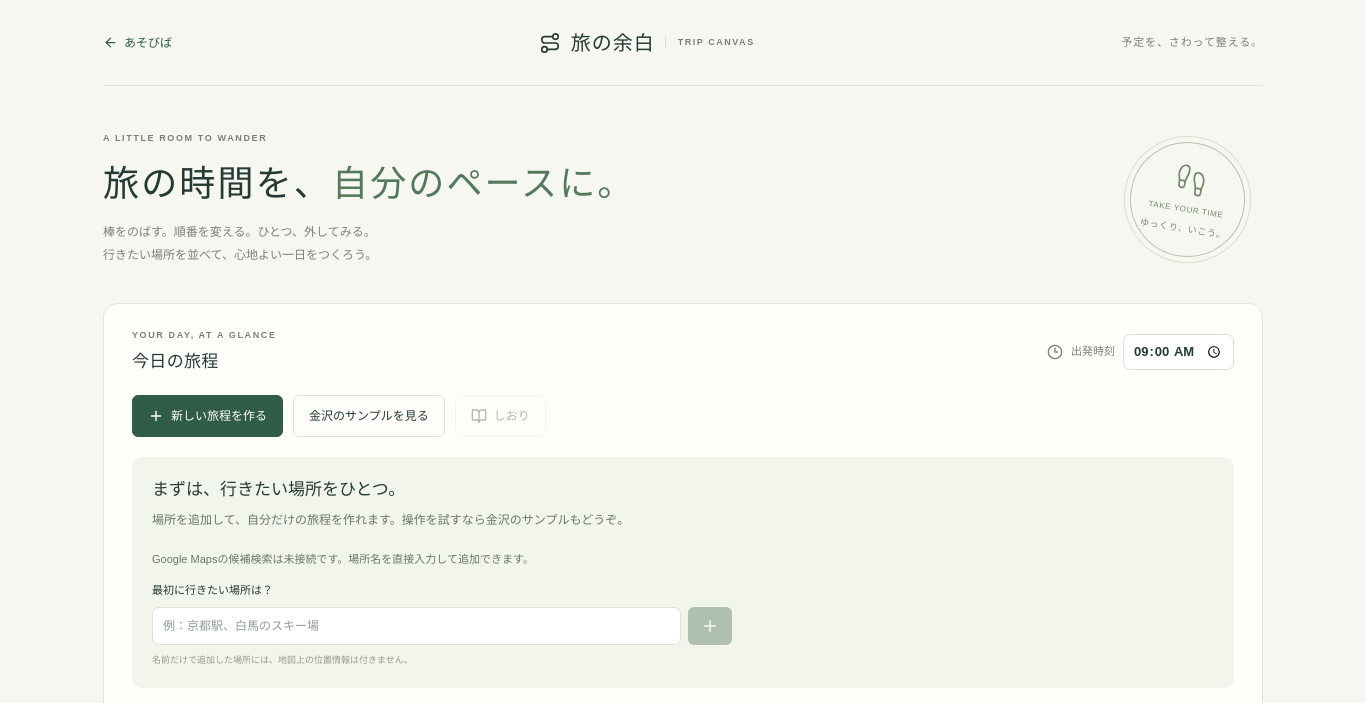
Test: TripPlanner › 全区間に手入力すれば、地図未接続でも移動込みの終了予定を表示できる
This screenshot has width=1366, height=703.
Click the button "金沢のサンプルを見る" at (369, 416), box [293,395,445,437]
(page scrolled)
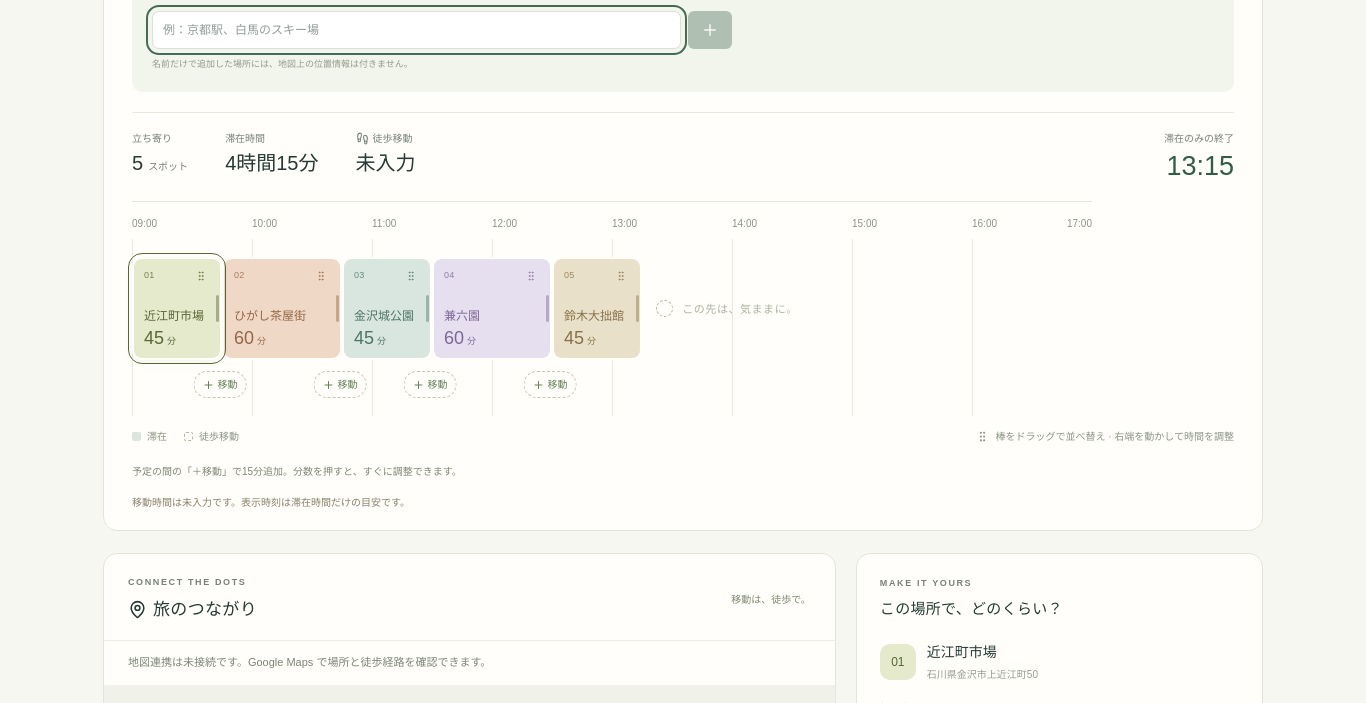
Click the button with aria-label "への移動時間を追加" at (220, 385), box [194,371,246,398]
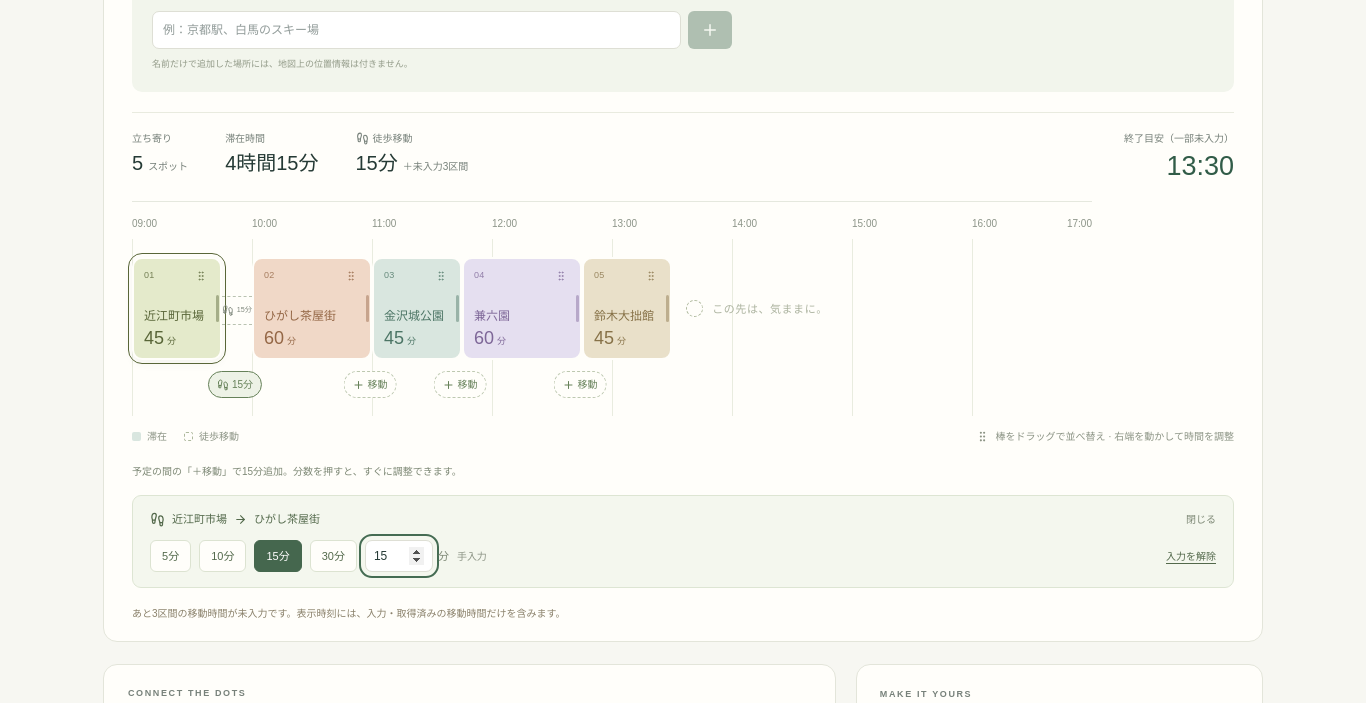
Click the button with aria-label "への移動時間を追加" at (370, 385), box [344,371,396,398]
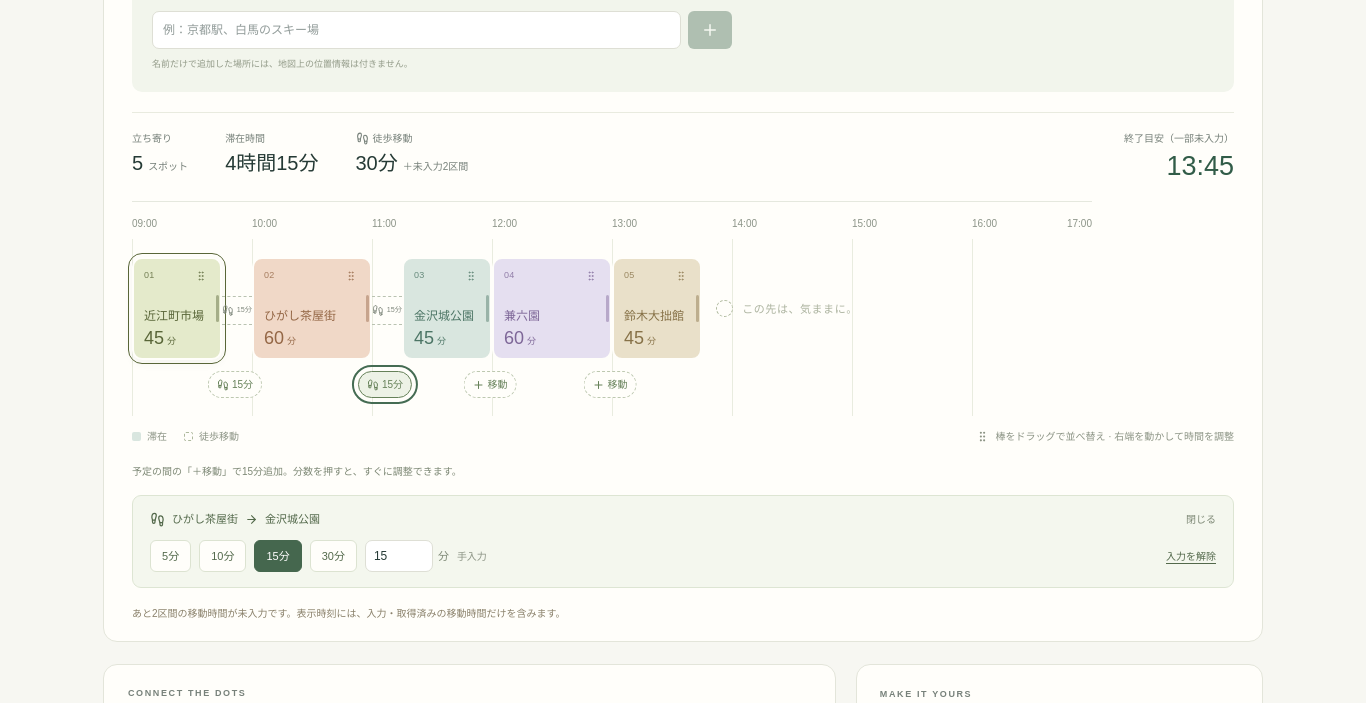
Click the button with aria-label "への移動時間を追加" at (490, 385), box [464,371,516,398]
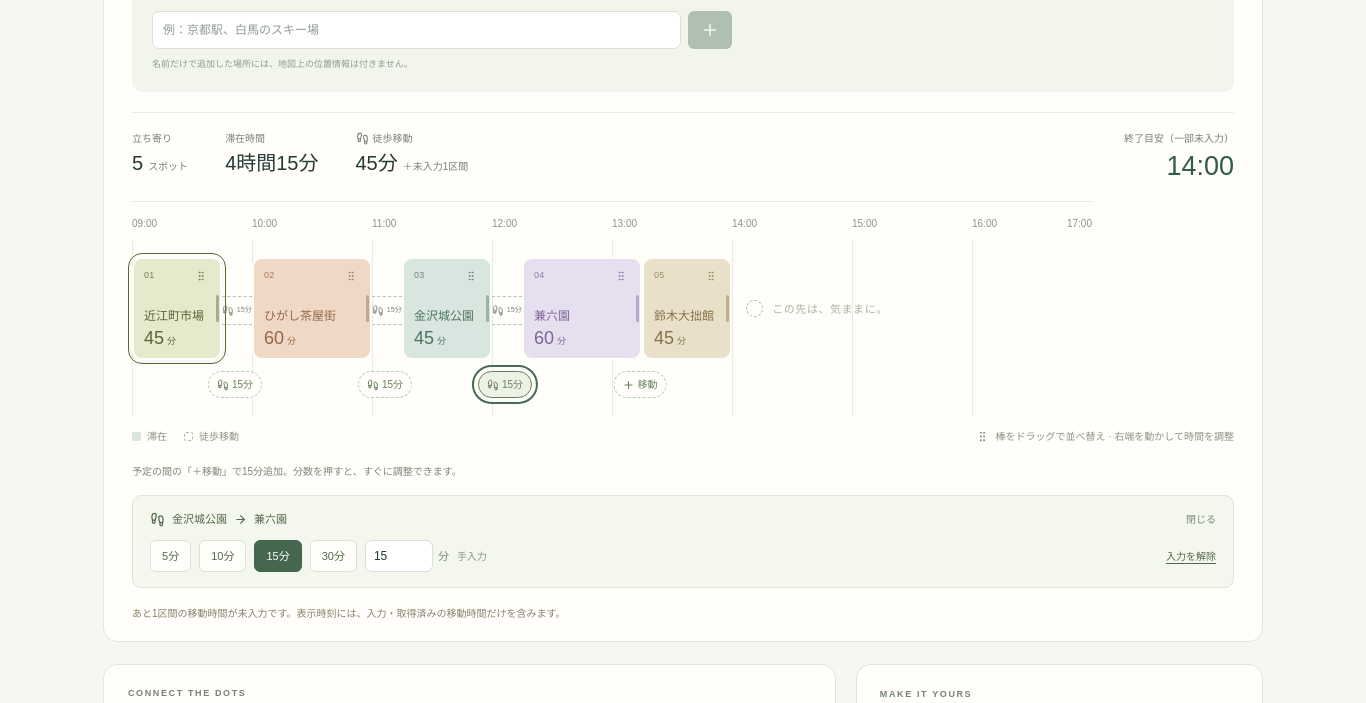
Click the button with aria-label "への移動時間を追加" at (640, 385), box [614,371,666,398]
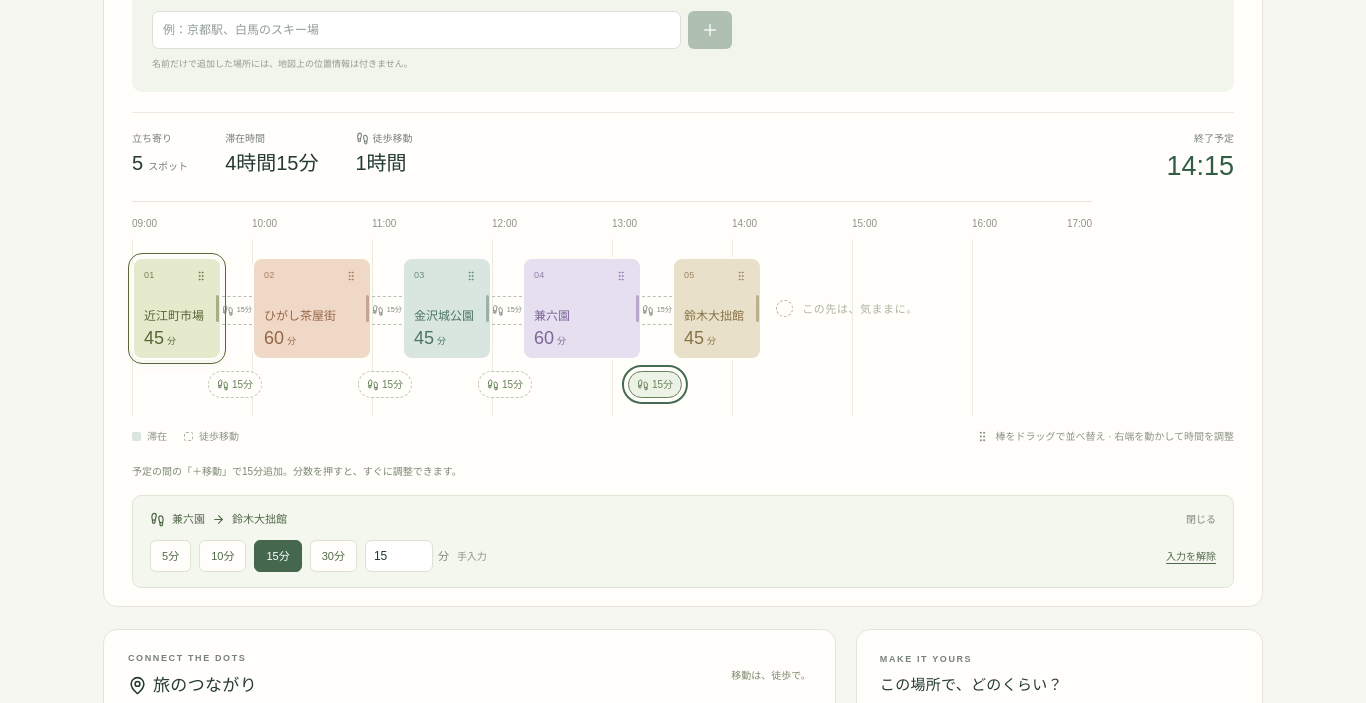
expect the element with test id "trip-summary" no longer shows "未入力": met, box [132,112,1234,201]
expect the text "区間の移動時間が未入力" is gone: met
